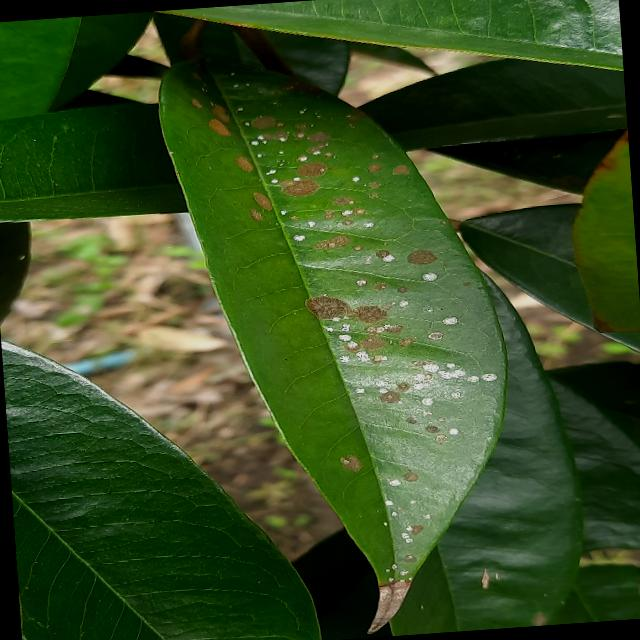Algal Leaf Spot: (140, 21, 537, 639)
